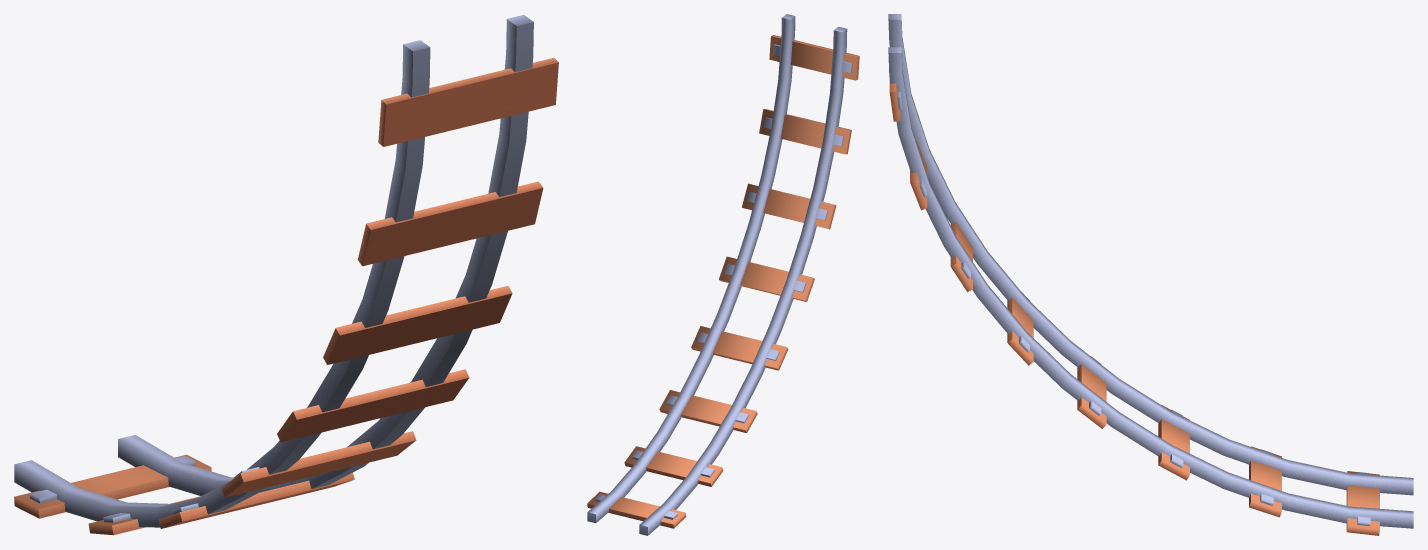
Rendered from railroad-straight-bend.glb.
The picture shows the model from 3 angles, left to right: view 1: azimuth 30°, elevation 25°; view 2: azimuth 150°, elevation 25°; view 3: azimuth 270°, elevation 25°; orthographic projection. The views are drawn at different scales.
Visible parts, largest first — view 1: railroad-straight-bend-large; view 2: railroad-straight-bend-large; view 3: railroad-straight-bend-large.
Part boxes in pixels (x1=…): railroad-straight-bend-large: x1=14, y1=15, x2=558, y2=535; railroad-straight-bend-large: x1=587, y1=14, x2=859, y2=535; railroad-straight-bend-large: x1=888, y1=14, x2=1413, y2=535.
Bounding box in the file's own units: 1 × 4 × 4.
Materials: 1 (1 with a texture image).
